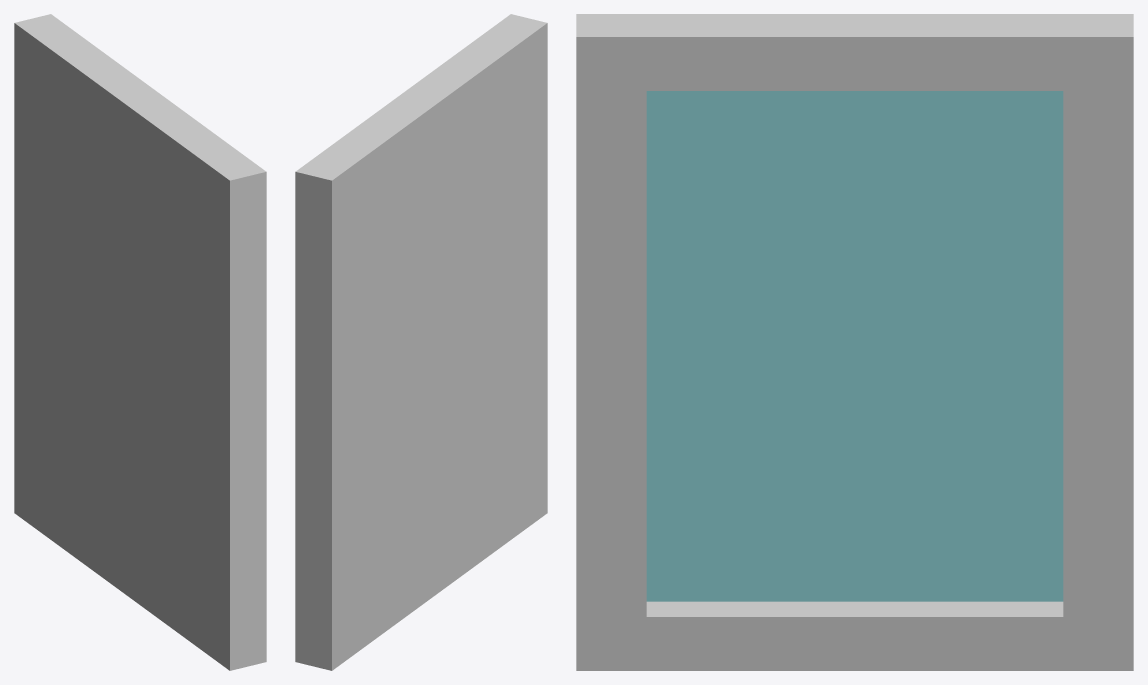
File: espejoBaño2.fbx
3 renders of one model, left to right at view 1: azimuth 30°, elevation 25°; view 2: azimuth 150°, elevation 25°; view 3: azimuth 270°, elevation 25°, orthographic. The views are drawn at different scales.
Visible parts, largest first — view 1: EspejoBaño2; view 2: EspejoBaño2; view 3: EspejoBaño2.
Boxes of the visible parts, box(x1,y1,x2,y2) form: EspejoBaño2: box(14, 14, 266, 670); EspejoBaño2: box(295, 14, 547, 670); EspejoBaño2: box(576, 14, 1133, 670).
Size of the model in its own units: 65.35 by 837 by 667.
